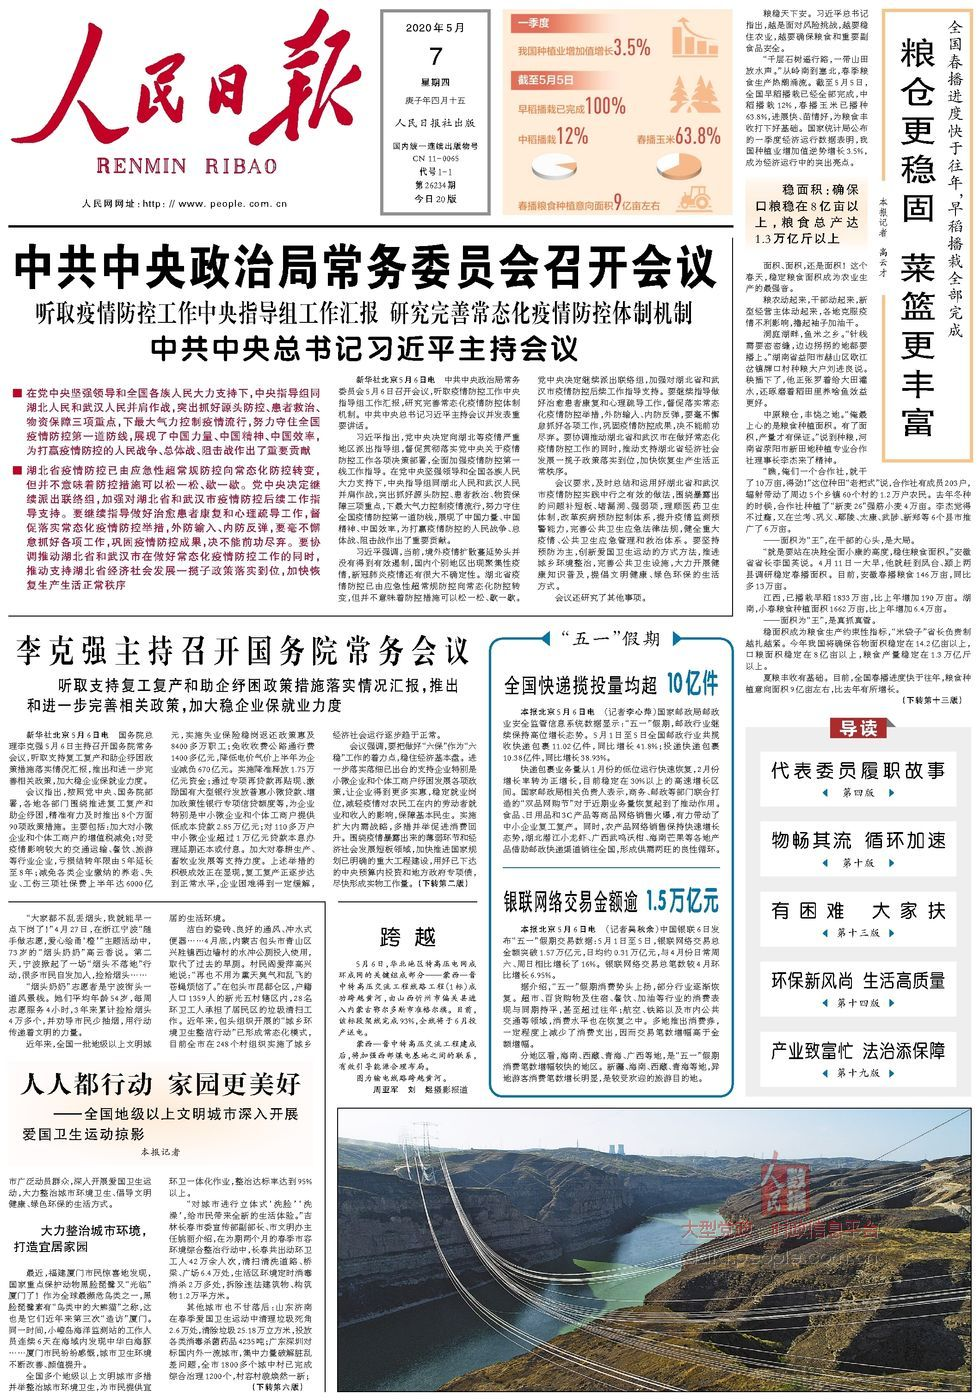pic: (333, 1103, 971, 1397)
